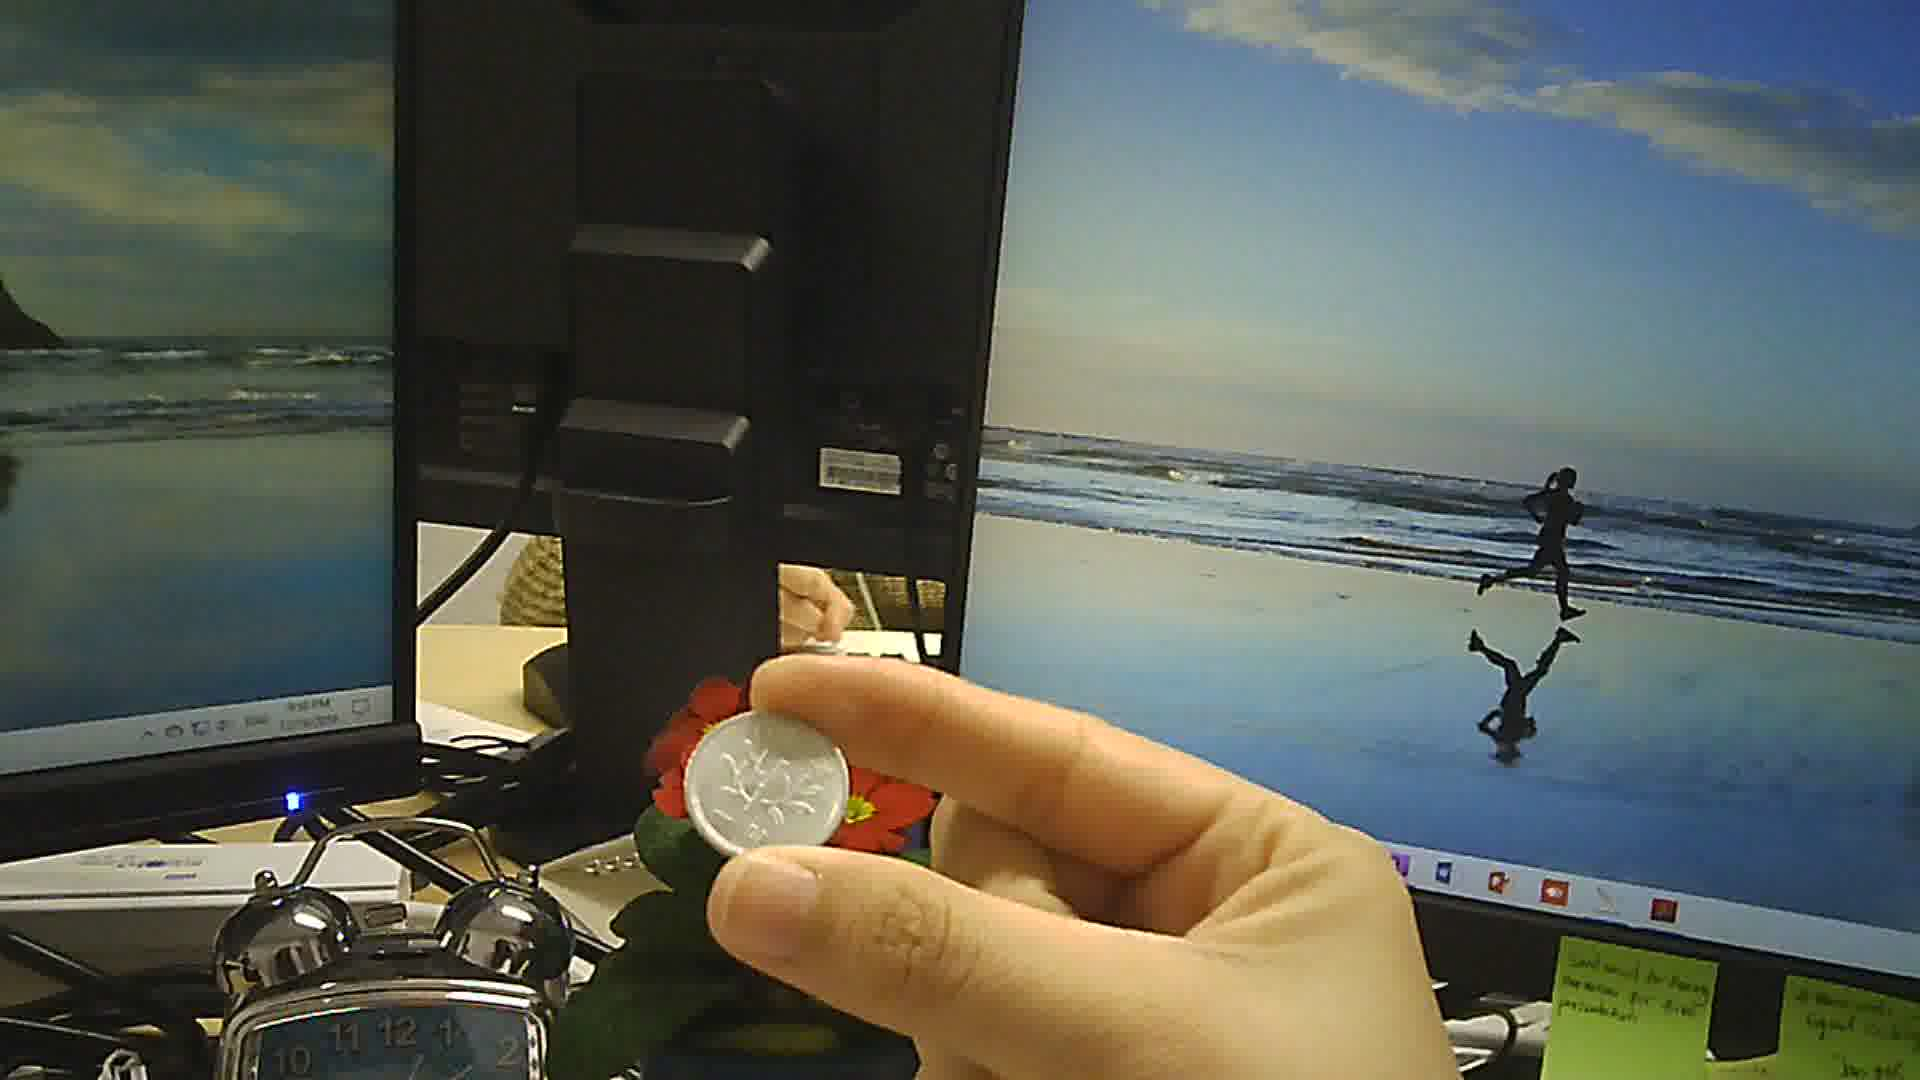1 Yen: (678, 705, 852, 855)
